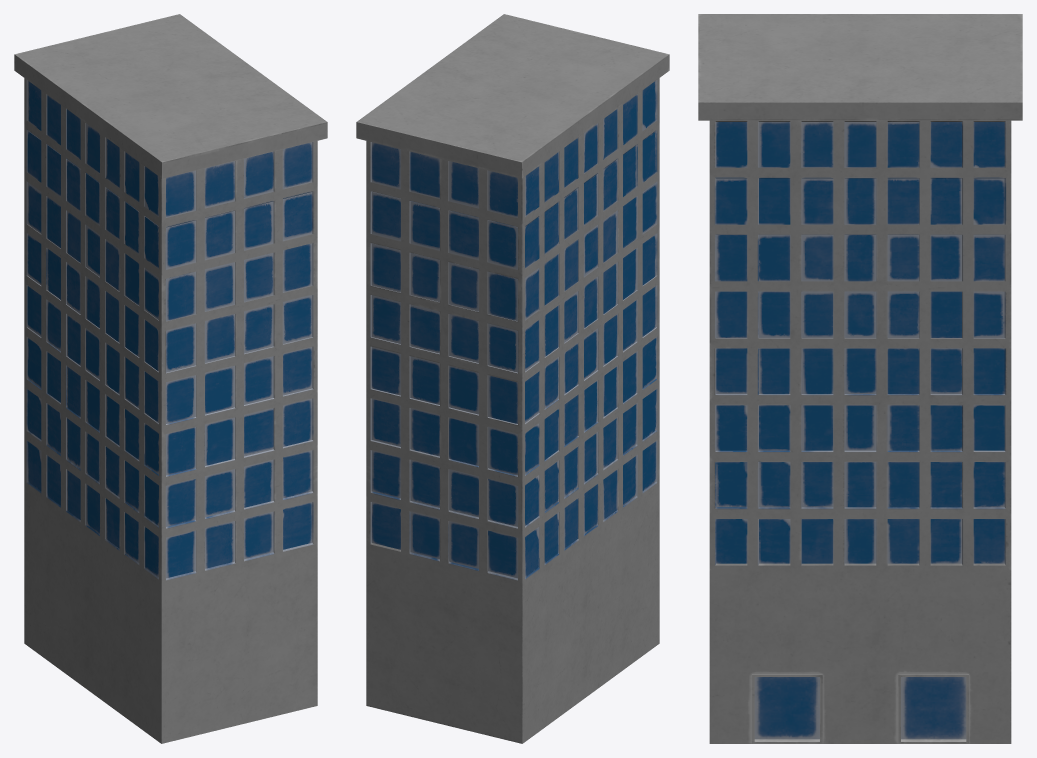
File: Building.fbx
3 renders of one model, left to right at view 1: azimuth 30°, elevation 25°; view 2: azimuth 150°, elevation 25°; view 3: azimuth 270°, elevation 25°, orthographic. The views are drawn at different scales.
Parts seen in each view (by area): view 1: Cube.002; view 2: Cube.002; view 3: Cube.002.
Part boxes in pixels (x1,y1,x2,y2): Cube.002: (14,14,327,743); Cube.002: (356,14,669,743); Cube.002: (698,14,1022,743).
Bounding box in the file's own units: 509 × 1725 × 787.
Materials: 1 (1 with a texture image).
